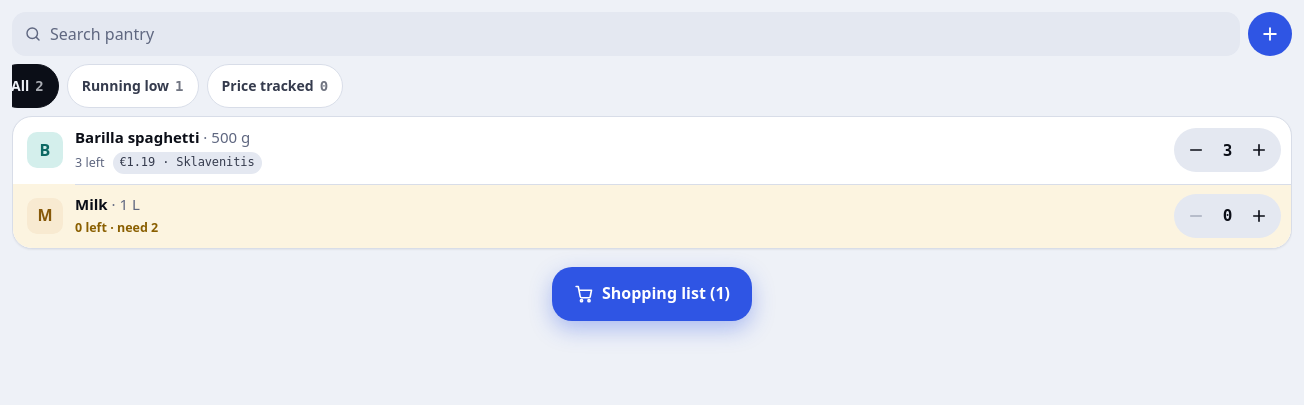
Test case: offline, the stepper is queued with its client_id and the row says it is waiting to sync
Click the button named "Increase Milk": (1259, 216) [1237,194,1281,238]
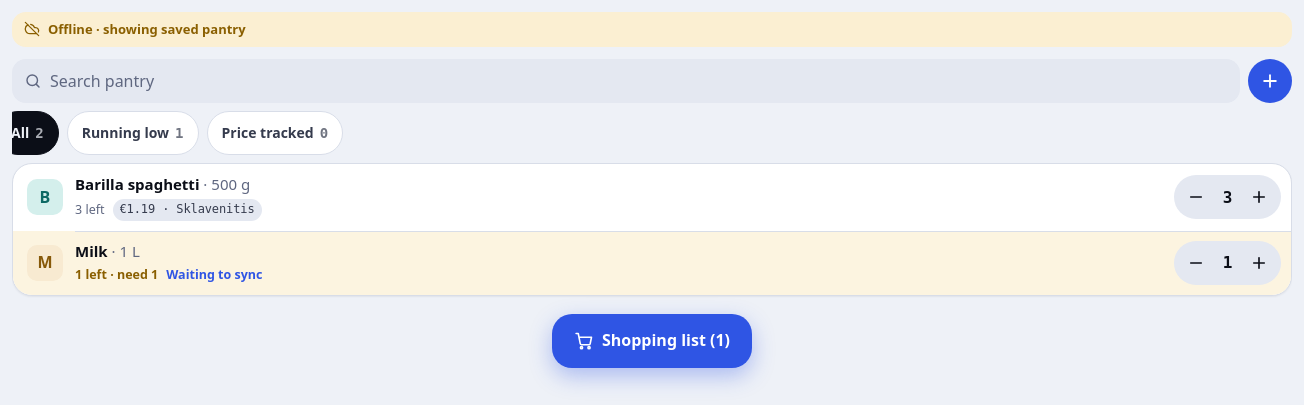
Expected: the text with test id "pantry-qty" in the row of "Milk" reads "1", [1223,253,1232,272]
Expected: the text "Waiting to sync" is shown, [166,266,262,284]
